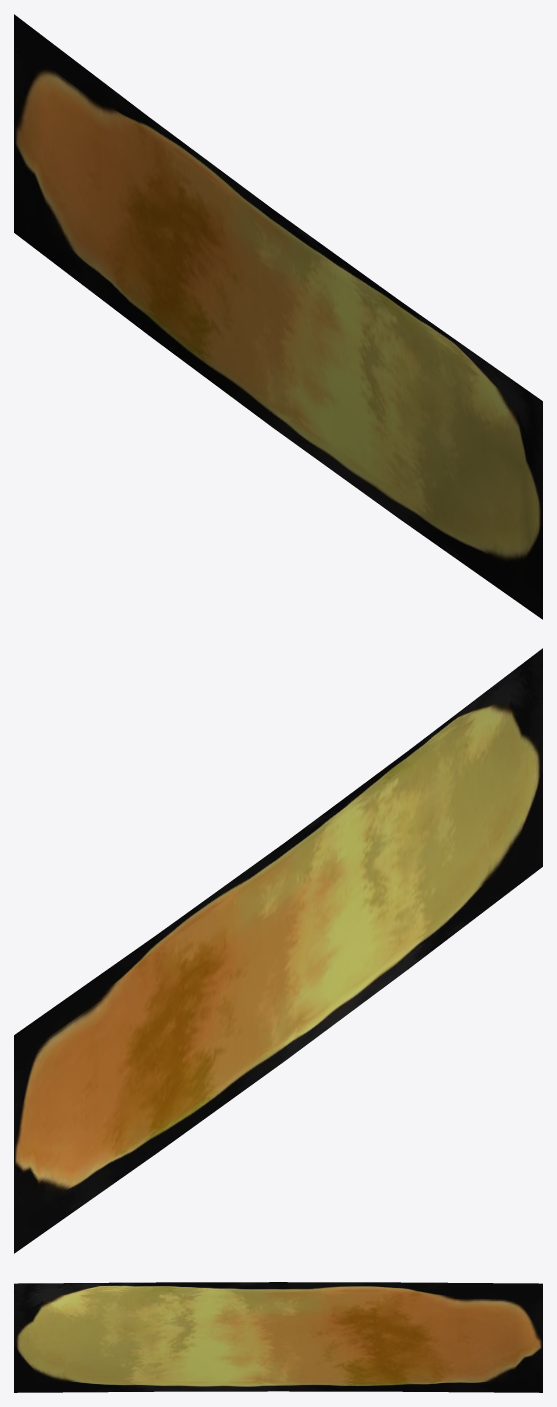
Rendered from cloud01.glb.
3 renders of one model, top to bottom at view 1: azimuth 30°, elevation 25°; view 2: azimuth 150°, elevation 25°; view 3: azimuth 270°, elevation 25°, orthographic. The views are drawn at different scales.
Parts seen in each view (by area): view 1: Cloud01; view 2: Cloud01; view 3: Cloud01.
Part boxes in pixels (x1,y1,x2,y2): Cloud01: (14, 14, 542, 619); Cloud01: (14, 648, 542, 1253); Cloud01: (14, 1282, 542, 1392).
Bounding box in the file's own units: 0.0562 × 1.27 × 5.55.
Materials: 1 (1 with a texture image).
